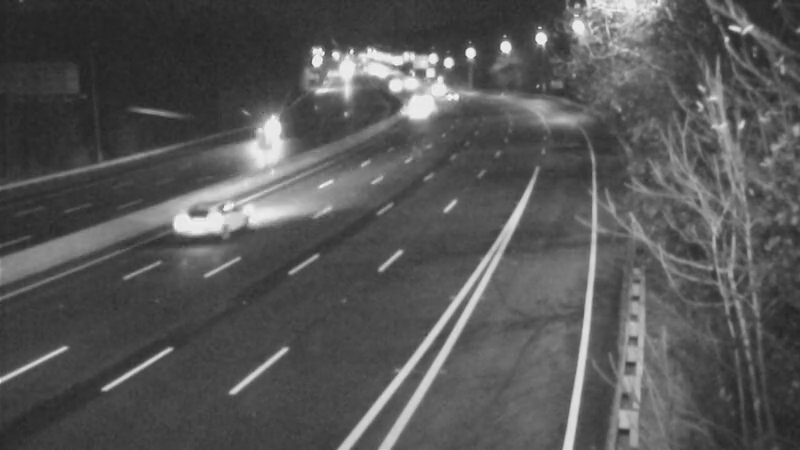vehicle: (170, 185, 250, 265), (414, 65, 464, 115), (425, 70, 475, 120), (394, 85, 444, 135), (242, 106, 292, 156)
